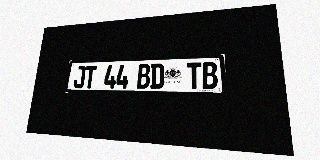4: (104, 65, 117, 89), (116, 65, 129, 89)
B: (202, 62, 218, 89), (137, 64, 150, 89)
D: (150, 63, 164, 89)
J: (73, 66, 86, 88)
T: (187, 62, 202, 89), (84, 66, 97, 88)
